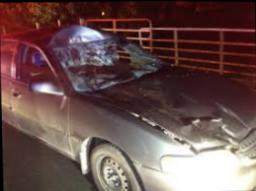Bonnet: (155, 96, 249, 145)
Windshield: (51, 34, 160, 91)
